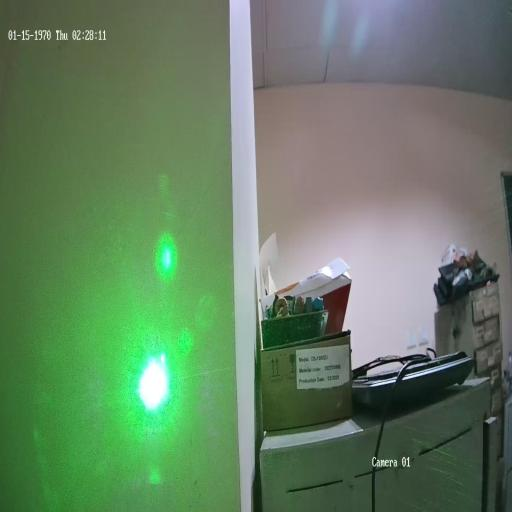laser: (132, 340, 173, 419)
